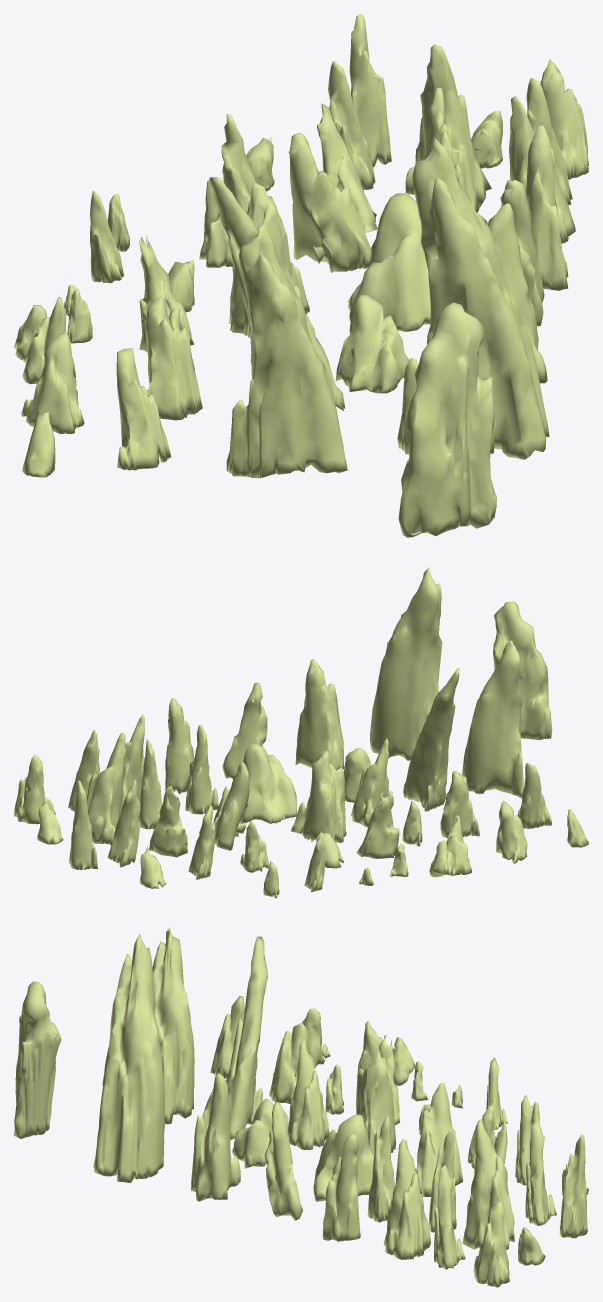
3 renders of one model, top to bottom at view 1: azimuth 30°, elevation 25°; view 2: azimuth 150°, elevation 25°; view 3: azimuth 270°, elevation 25°, orthographic. The views are drawn at different scales.
Parts seen in each view (by area): view 1: scatter_rocks___terrain008; view 2: scatter_rocks___terrain008; view 3: scatter_rocks___terrain008.
Part boxes in pixels (x1,y1,x2,y2): scatter_rocks___terrain008: (14,14,588,537); scatter_rocks___terrain008: (14,567,588,898); scatter_rocks___terrain008: (14,927,588,1287).
Size of the model in its own units: 3500 by 1429 by 3393.
